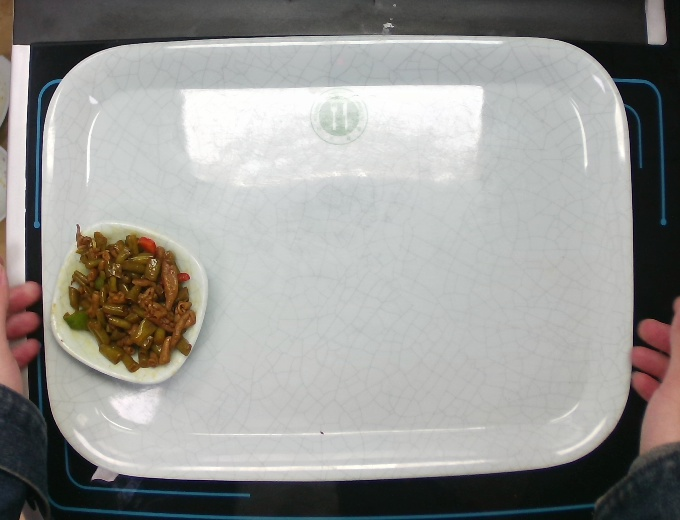JYsf-Si_Fang_Die: (46, 227, 211, 386)
